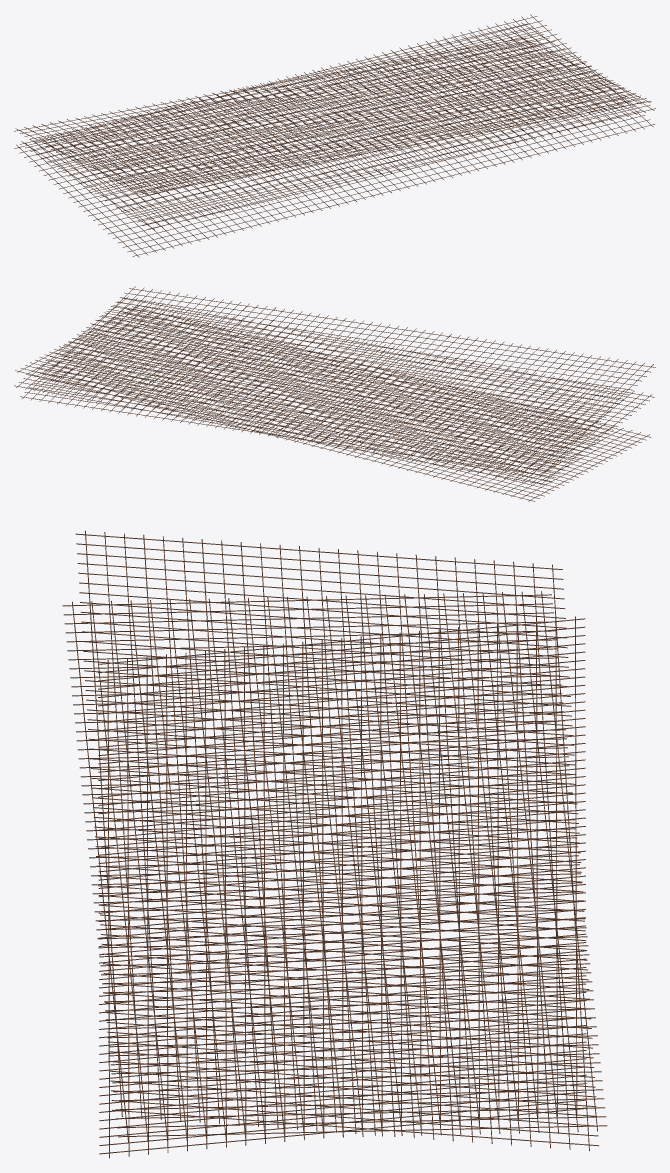
Rendered from EST-TEL-004_anim.glb.
3 renders of one model, top to bottom at view 1: azimuth 30°, elevation 25°; view 2: azimuth 150°, elevation 25°; view 3: azimuth 270°, elevation 25°, orthographic. The views are drawn at different scales.
Parts seen in each view (by area): view 1: EST-TEL-004_anim2, EST-TEL-004_anim1, EST-TEL-004_anim0; view 2: EST-TEL-004_anim2, EST-TEL-004_anim1, EST-TEL-004_anim0; view 3: EST-TEL-004_anim2, EST-TEL-004_anim1, EST-TEL-004_anim0.
Part boxes in pixels (x1,y1,x2,y2): EST-TEL-004_anim2: [14, 37, 651, 194]; EST-TEL-004_anim1: [20, 22, 655, 229]; EST-TEL-004_anim0: [14, 14, 654, 257]; EST-TEL-004_anim2: [20, 286, 655, 476]; EST-TEL-004_anim1: [14, 296, 654, 485]; EST-TEL-004_anim0: [15, 306, 651, 501]; EST-TEL-004_anim2: [75, 530, 599, 1150]; EST-TEL-004_anim1: [62, 591, 607, 1142]; EST-TEL-004_anim0: [98, 616, 586, 1158].
Size of the model in its own units: 6.13 by 0.7325 by 2.72.
Materials: 1 (1 with a texture image).
